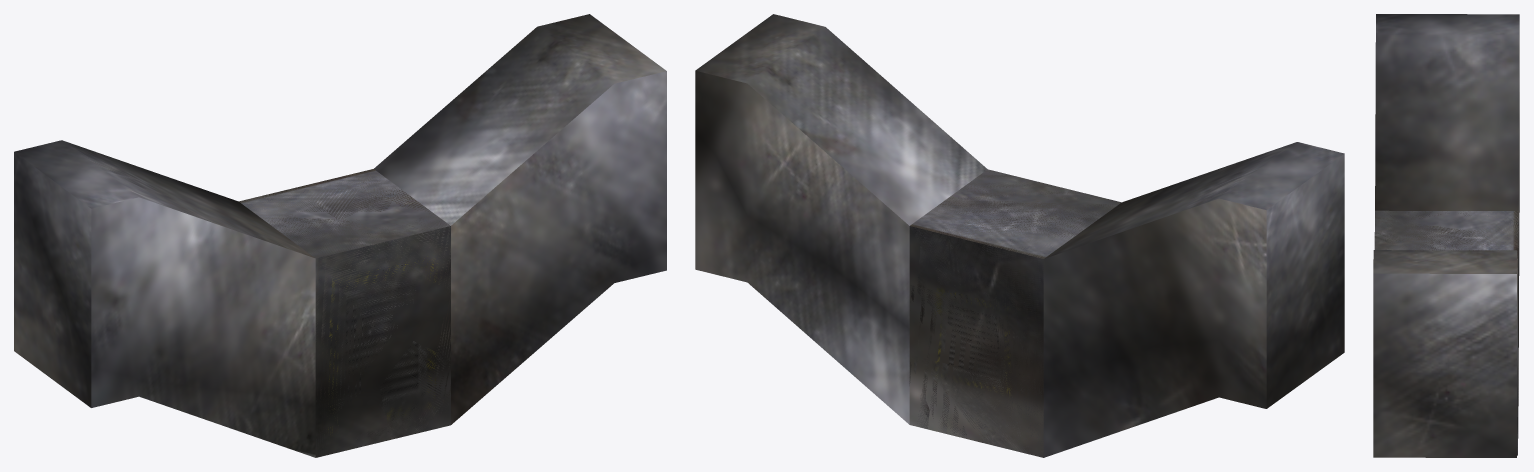
The model's file is plataformaAire2.fbx.
The picture shows the model from 3 angles, left to right: view 1: azimuth 30°, elevation 25°; view 2: azimuth 150°, elevation 25°; view 3: azimuth 270°, elevation 25°; orthographic projection. The views are drawn at different scales.
Visible parts, largest first — view 1: Cylinder; view 2: Cylinder; view 3: Cylinder.
Boxes of the visible parts, x1,y1,x2,y2 form: Cylinder: [14, 14, 666, 457]; Cylinder: [695, 14, 1344, 457]; Cylinder: [1373, 14, 1519, 457].
Bounding box in the file's own units: 3.02 × 1.52 × 0.7206.
Materials: 1 (1 with a texture image).
